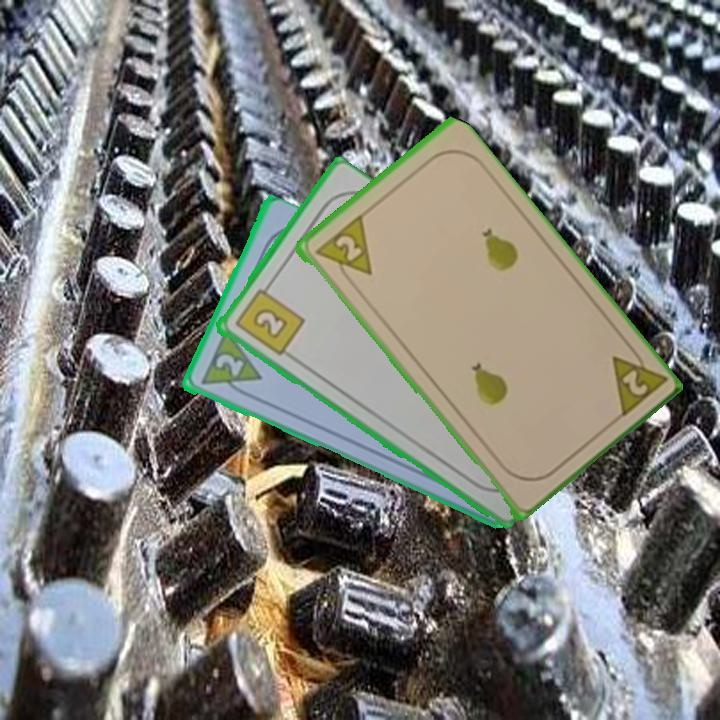2b: (231, 279, 307, 359)
2p: (607, 339, 668, 422), (196, 328, 264, 402), (310, 212, 375, 289)
